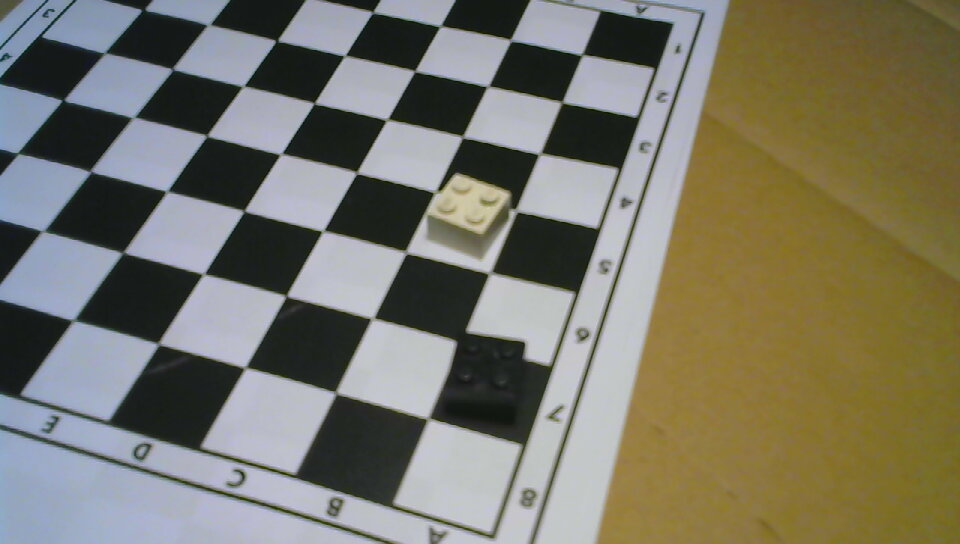bp: (446, 328, 525, 425)
wp: (426, 171, 511, 258)
